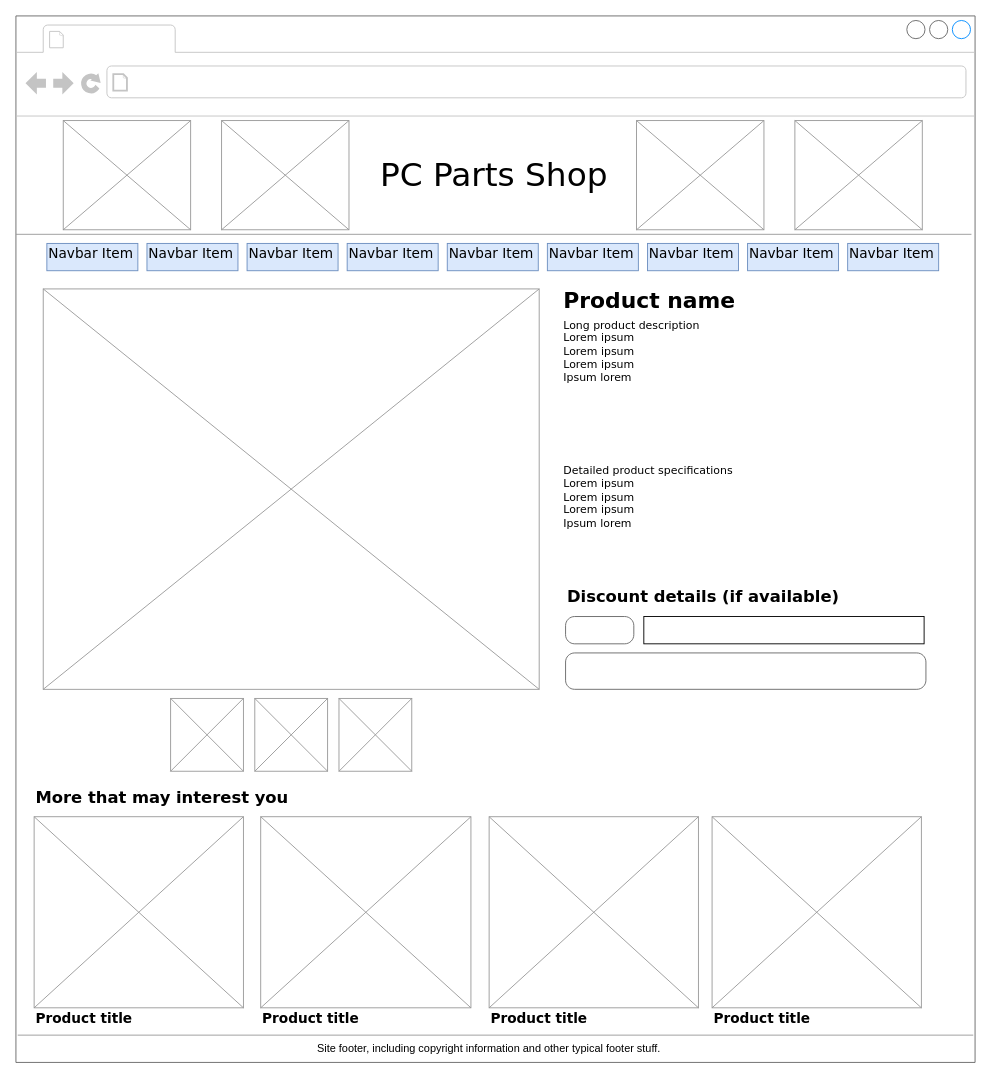
This 991x1086 diagram has some shape labels left out. The centre of each missing label's shape, as x and y in pixels:
Add to cart: point (745, 670)
https://www.pc-parts-shop.com/product/1/: point (247, 82)
Notes: point (783, 630)
PC Parts Sh...: point (120, 38)
Qty: point (599, 630)
